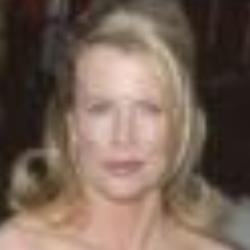face: (27, 6, 225, 224)
